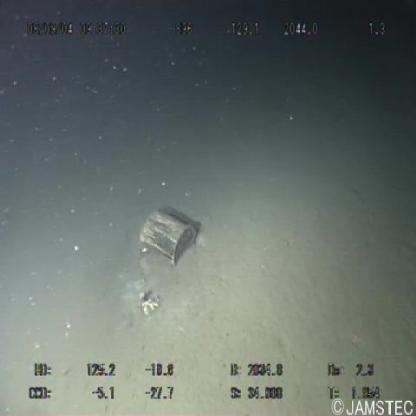Rác: (141, 213, 199, 266)
